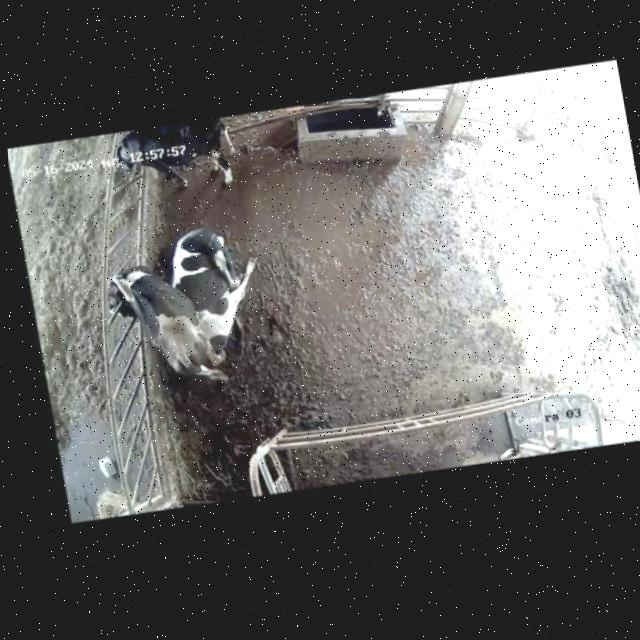eat: (68, 257, 160, 334), (71, 130, 167, 187)
lay: (159, 204, 293, 362)
